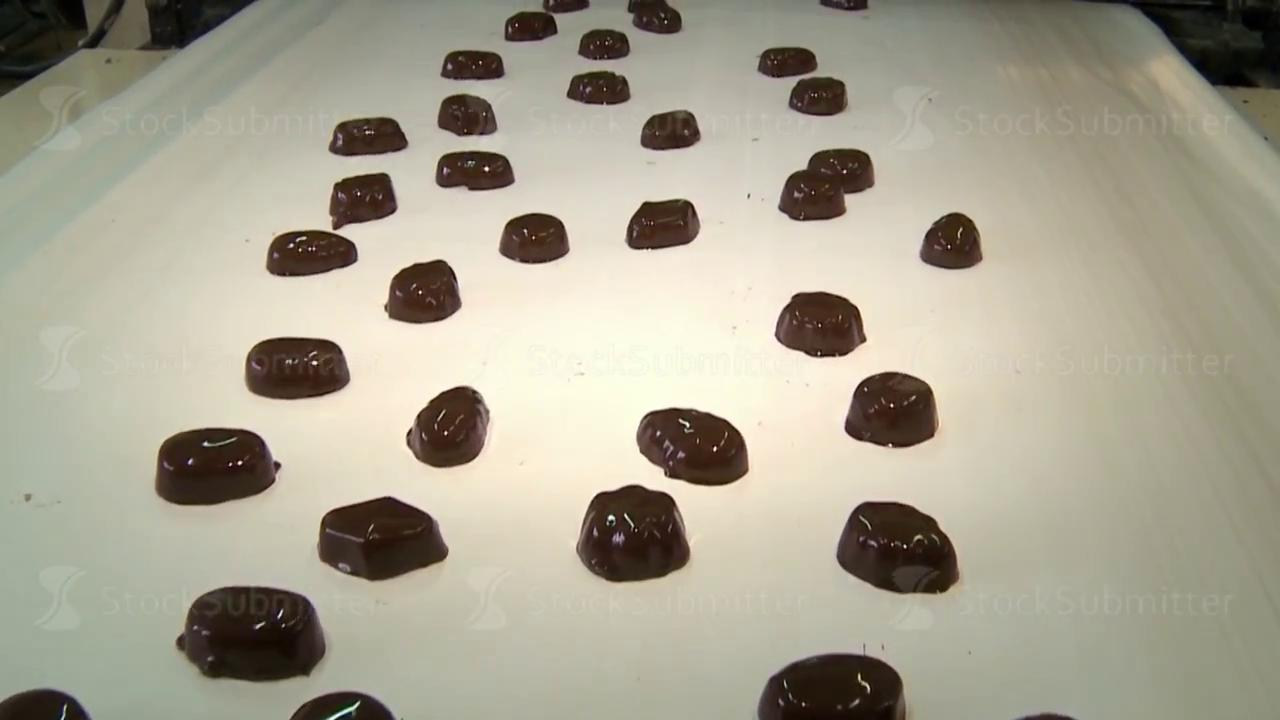chocolate: (177, 584, 326, 681), (836, 500, 959, 594), (576, 484, 690, 582), (318, 495, 448, 580), (757, 651, 906, 719), (155, 426, 279, 505), (636, 406, 749, 485), (845, 370, 938, 447), (406, 385, 489, 467), (244, 336, 349, 399), (775, 291, 866, 357), (385, 259, 461, 323), (266, 229, 357, 276), (329, 172, 397, 229), (626, 198, 700, 250), (499, 212, 569, 263), (778, 169, 846, 221), (920, 212, 982, 269), (436, 150, 514, 190), (328, 116, 407, 155), (290, 690, 395, 719), (808, 148, 874, 192), (1, 687, 91, 719), (437, 93, 497, 135), (640, 109, 700, 150), (789, 76, 847, 115), (567, 70, 630, 104), (440, 49, 504, 80), (628, 0, 682, 34), (758, 46, 817, 77), (504, 10, 557, 41), (578, 28, 630, 59)
